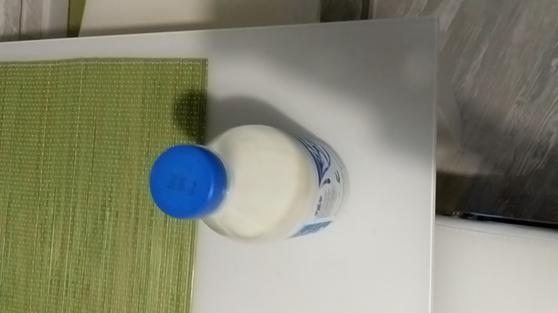milk: (140, 116, 369, 247)
